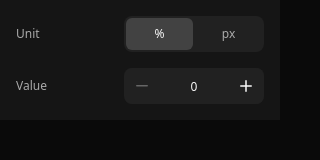
Test case: UnitValue Component › Hover behavior › should show tooltip when hovering over disabled decrement button at value 0
The width and height of the screenshot is (320, 160).
Hover over the 3rd button at (142,86), box [124,68,160,104]
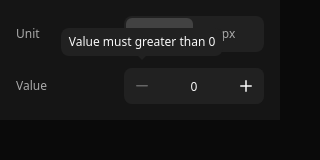
Result: the text "Value must greater than 0" is shown at [61,28,223,56]
